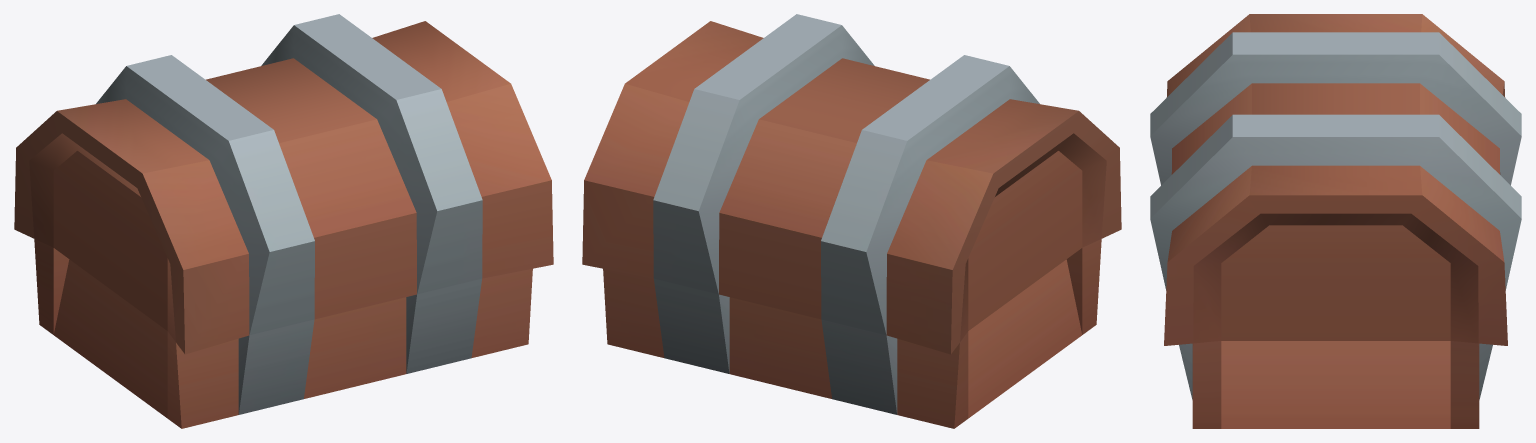
Rendered from trunk_large_c.glb.
The picture shows the model from 3 angles, left to right: view 1: azimuth 30°, elevation 25°; view 2: azimuth 150°, elevation 25°; view 3: azimuth 270°, elevation 25°; orthographic projection.
Parts seen in each view (by area): view 1: trunk_large_C; view 2: trunk_large_C; view 3: trunk_large_C.
Part boxes in pixels (x1,y1,x2,y2): trunk_large_C: (14, 14, 553, 428); trunk_large_C: (582, 14, 1121, 428); trunk_large_C: (1150, 14, 1521, 428).
Size of the model in its own units: 1.5 by 1 by 1.3.
1 material, 1 textured.
